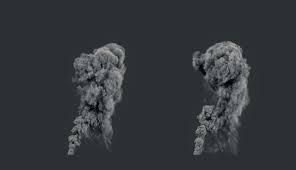smoke: (65, 41, 128, 158), (191, 38, 252, 157)
